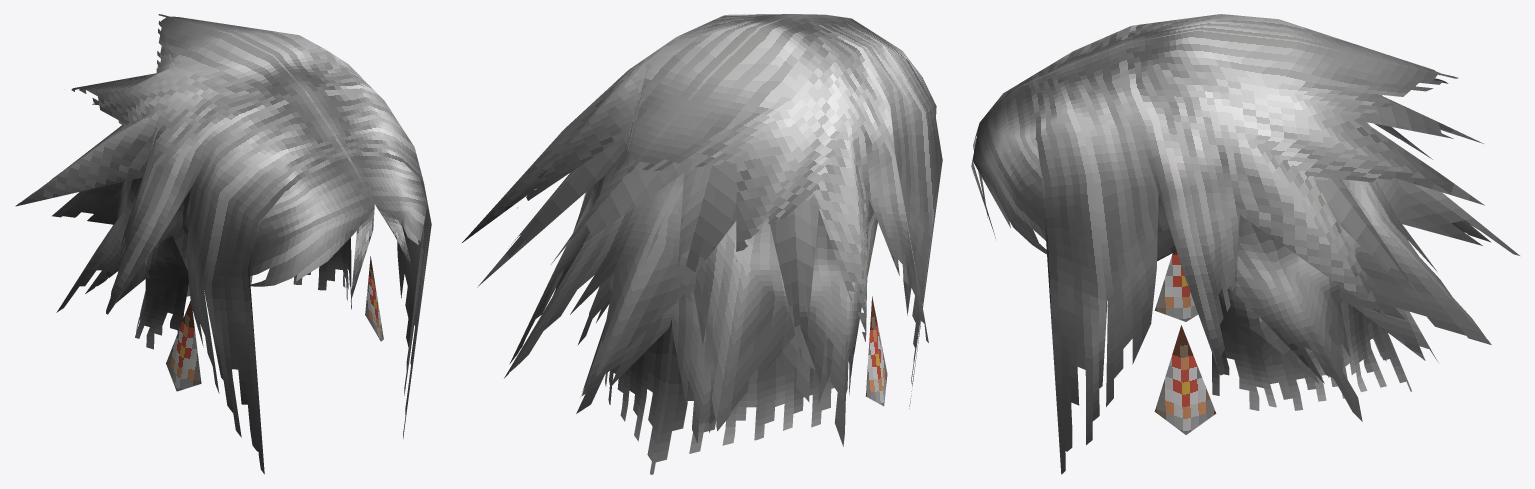
The model's file is m_body002.glb.
3 renders of one model, left to right at view 1: azimuth 30°, elevation 25°; view 2: azimuth 150°, elevation 25°; view 3: azimuth 270°, elevation 25°, orthographic. The views are drawn at different scales.
Size of the model in its own units: 26.84 by 26.19 by 32.05.
Materials: 1 (1 with a texture image).
